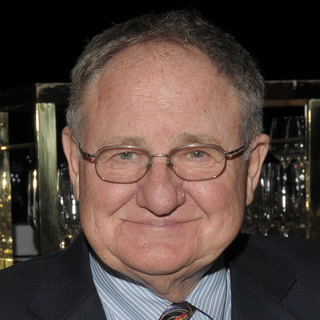eye: (177, 142, 219, 165), (106, 143, 148, 166)
